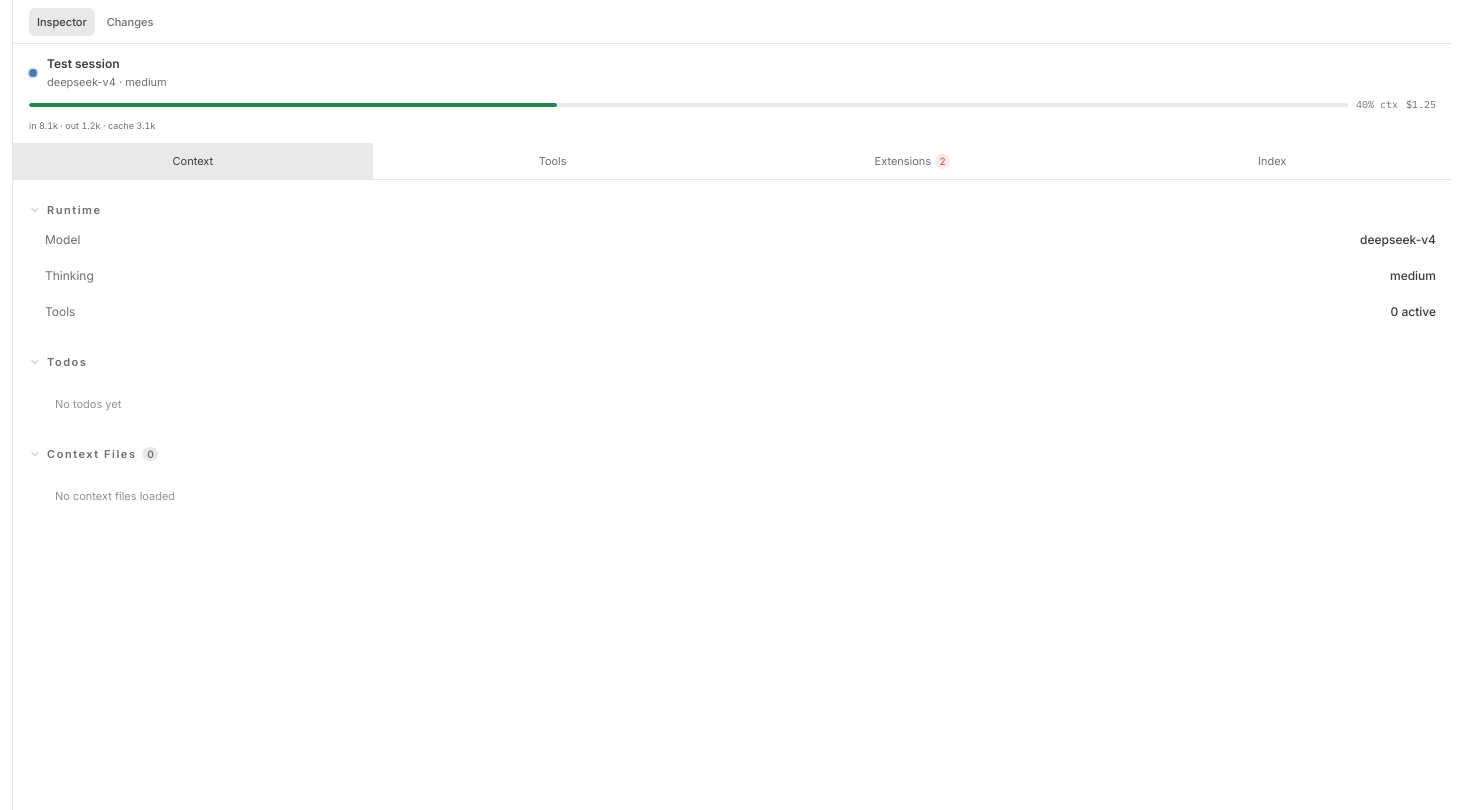
ResourceInspector › extensions tab lists packages and extensions without paths
Click the button "Extensions 2": (912, 161) [732, 143, 1092, 179]
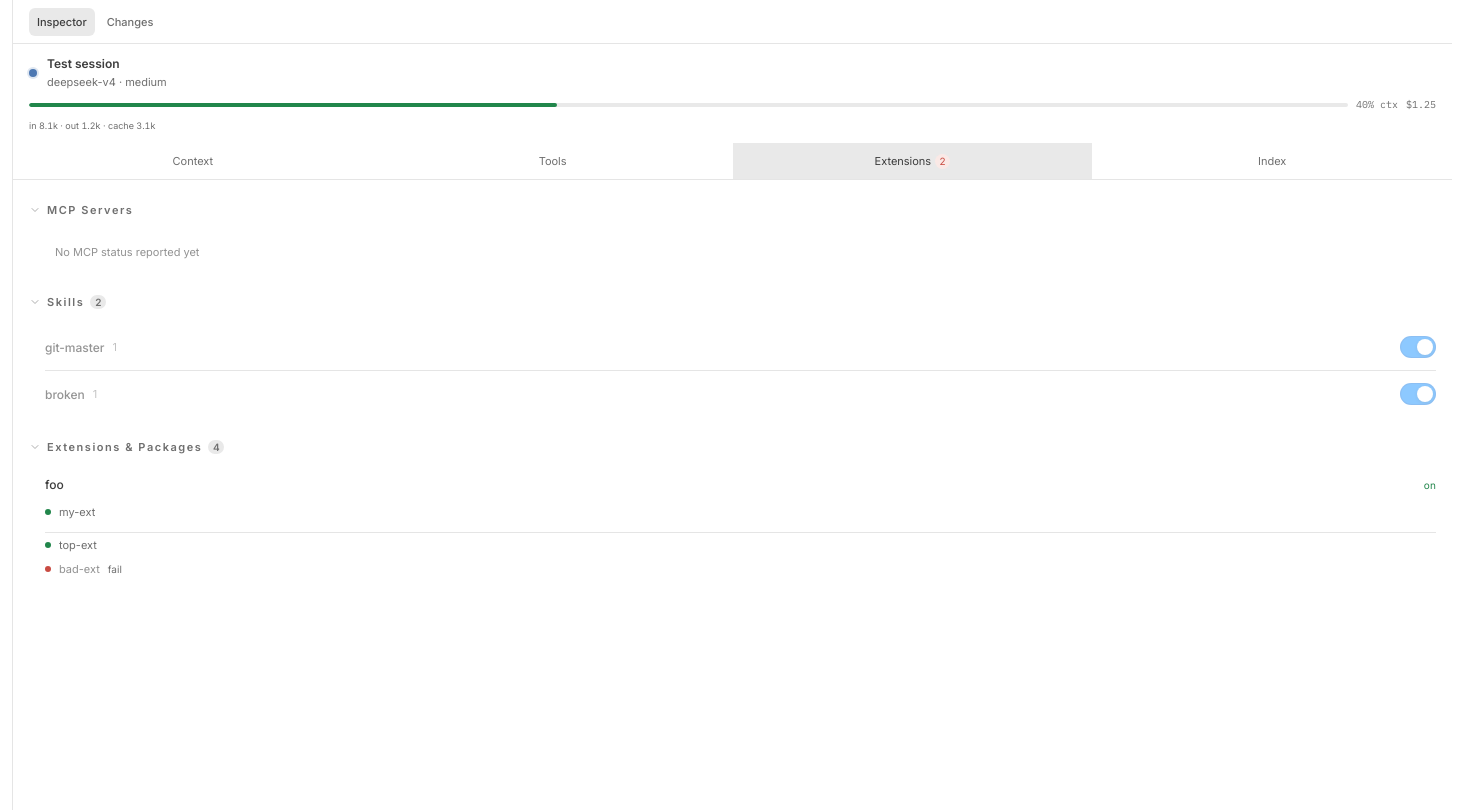
Expected: the text "Extensions & Packages" is shown, [47, 439, 202, 455]
Expected: the text "foo" is shown, [45, 477, 64, 492]
Expected: the text "my-ext" is shown, [59, 504, 95, 520]
